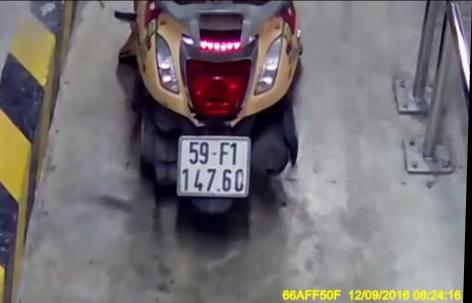LP: (176, 134, 253, 197)
